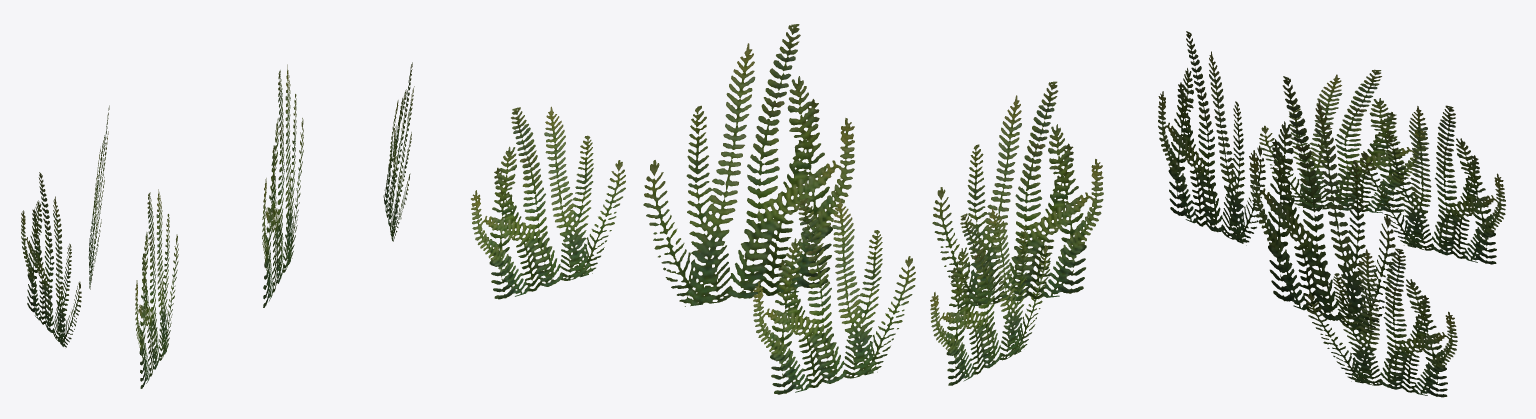
File: Scene_Grass_HeZao_1.FBX
3 renders of one model, left to right at view 1: azimuth 30°, elevation 25°; view 2: azimuth 150°, elevation 25°; view 3: azimuth 270°, elevation 25°, orthographic. The views are drawn at different scales.
Parts seen in each view (by area): view 1: Scene_Grass_HeZao_1; view 2: Scene_Grass_HeZao_1; view 3: Scene_Grass_HeZao_1.
Boxes of the visible parts, box(x1,y1,x2,y2) form: Scene_Grass_HeZao_1: box(21, 62, 414, 388); Scene_Grass_HeZao_1: box(471, 24, 1103, 394); Scene_Grass_HeZao_1: box(1158, 31, 1505, 397).
Size of the model in its own units: 418 by 215 by 311.
